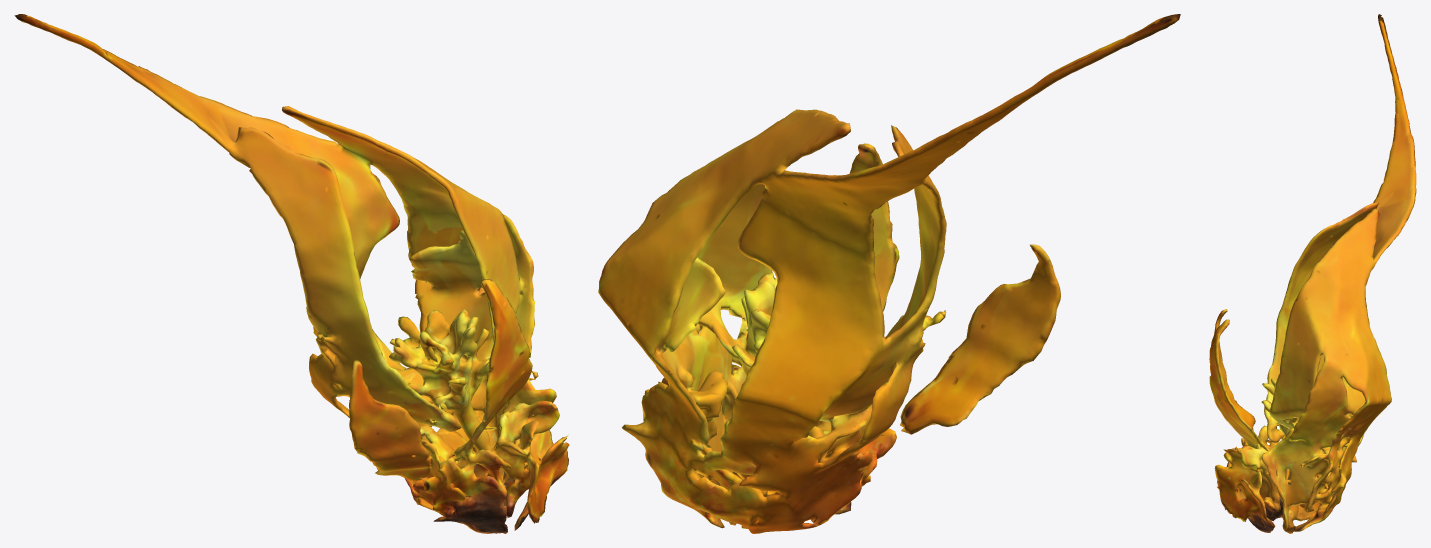
The model's file is little_flame_with_or_0927173629_refine.glb.
3 views of the same model, side by side, from view 1: azimuth 30°, elevation 25°; view 2: azimuth 150°, elevation 25°; view 3: azimuth 270°, elevation 25° (orthographic). The views are drawn at different scales.
Bounding box in the file's own units: 0.6734 × 0.7583 × 0.3742.
1 material, 1 textured.
